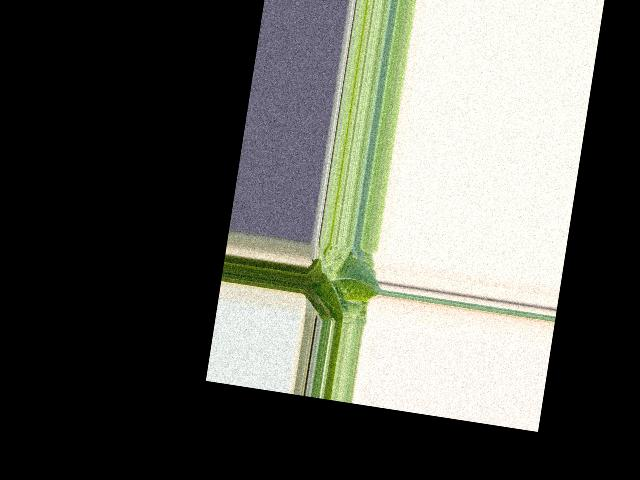lettuce: (299, 247, 380, 326)
